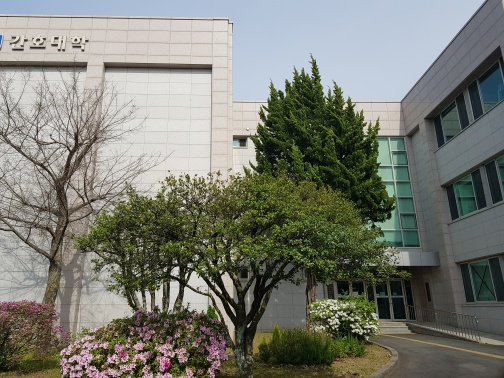College of Nursing: (12, 19, 495, 357), (10, 25, 91, 59)
